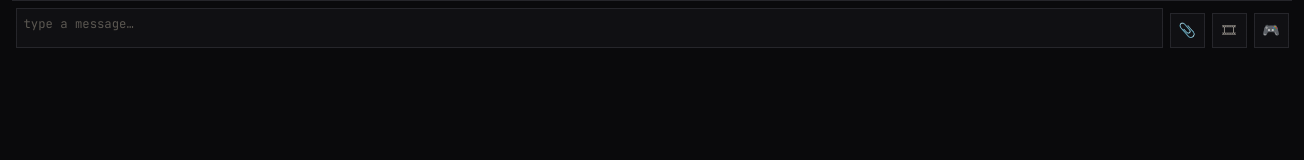
MessageComposer slash commands › completes command name on Enter when command is not fully typed
In the text box with test id "message-input": (589, 28) [16,8,1162,48], type "/jo"
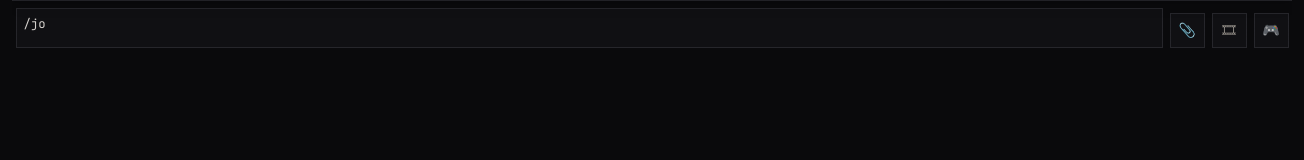
Press Enter in the text box with test id "message-input", box [16,8,1162,48]
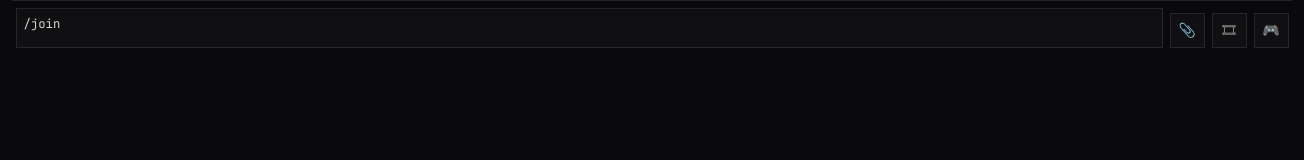
Result: the text box with test id "message-input" holds "/join " at [16,8,1162,48]
